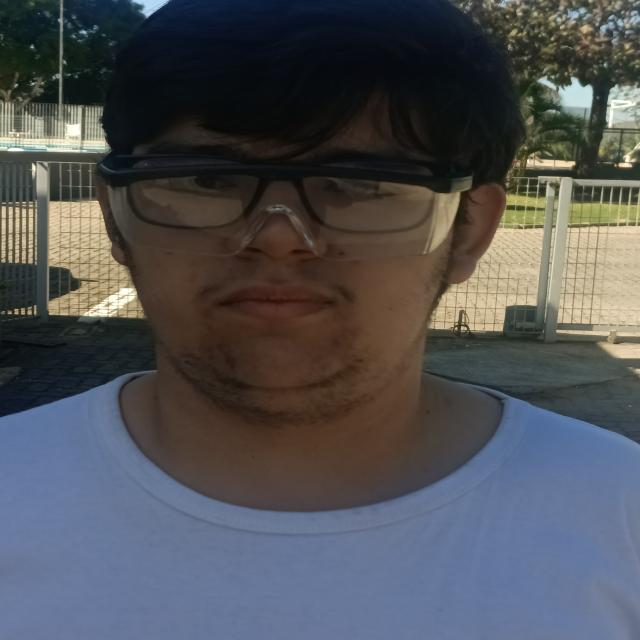oculos-epi: (97, 154, 472, 260)
